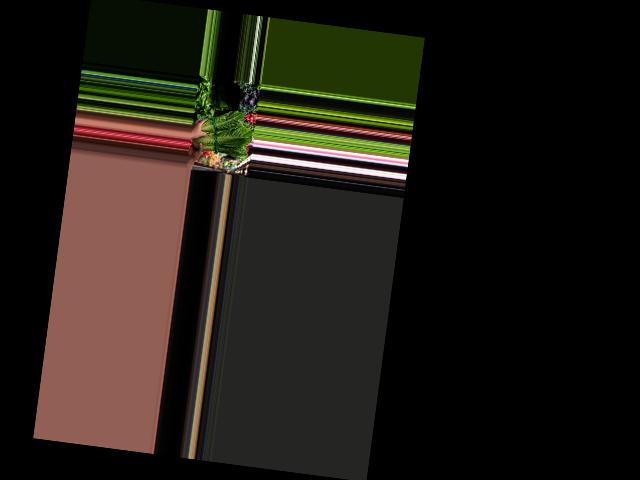lettuce: (187, 104, 252, 159)
